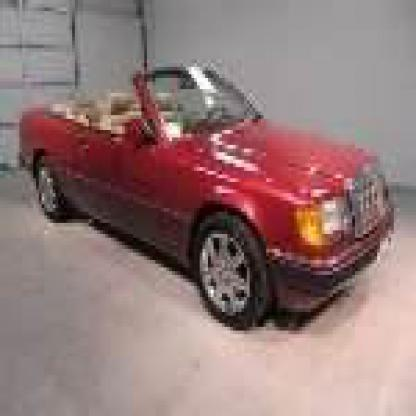Vehicle: (11, 56, 405, 345)
